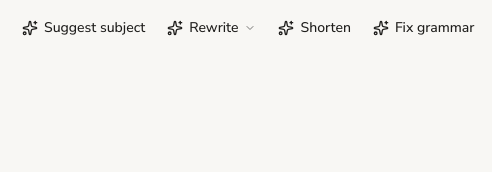
Test: compose AI tools › surfaces the server's friendly error when credits are gone
This screenshot has width=492, height=172.
Step 1. Click the button with test id "ai-subjects" → click(84, 28), box x1=12 y1=12 x2=155 y2=44
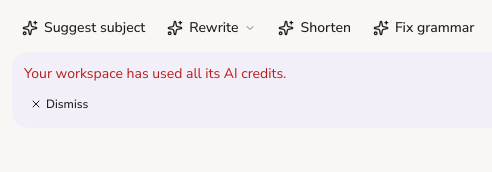
Expected: the message shows "used all its AI credits", x1=24 y1=64 x2=286 y2=83
